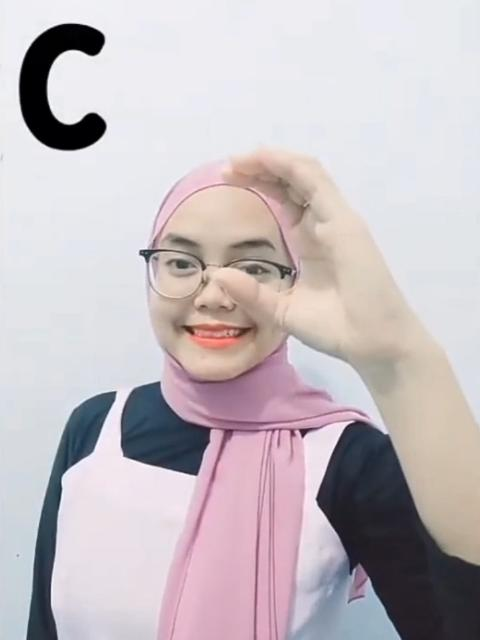C: (204, 140, 426, 362)
